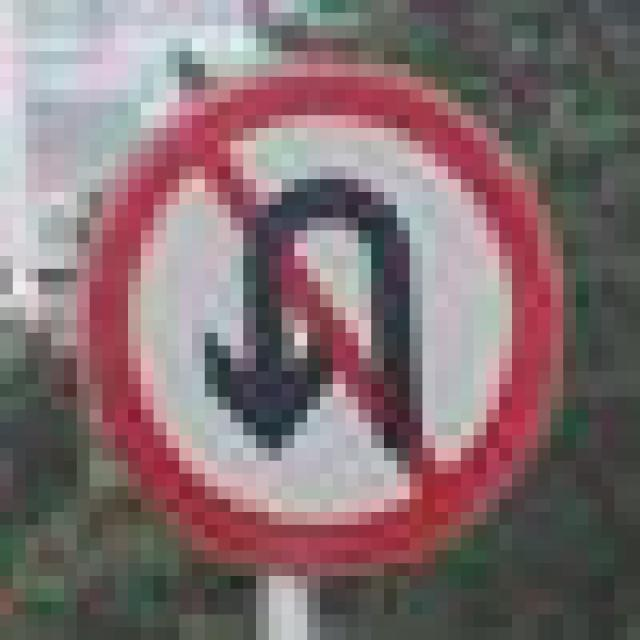u turn prohibited: (63, 54, 588, 589)
